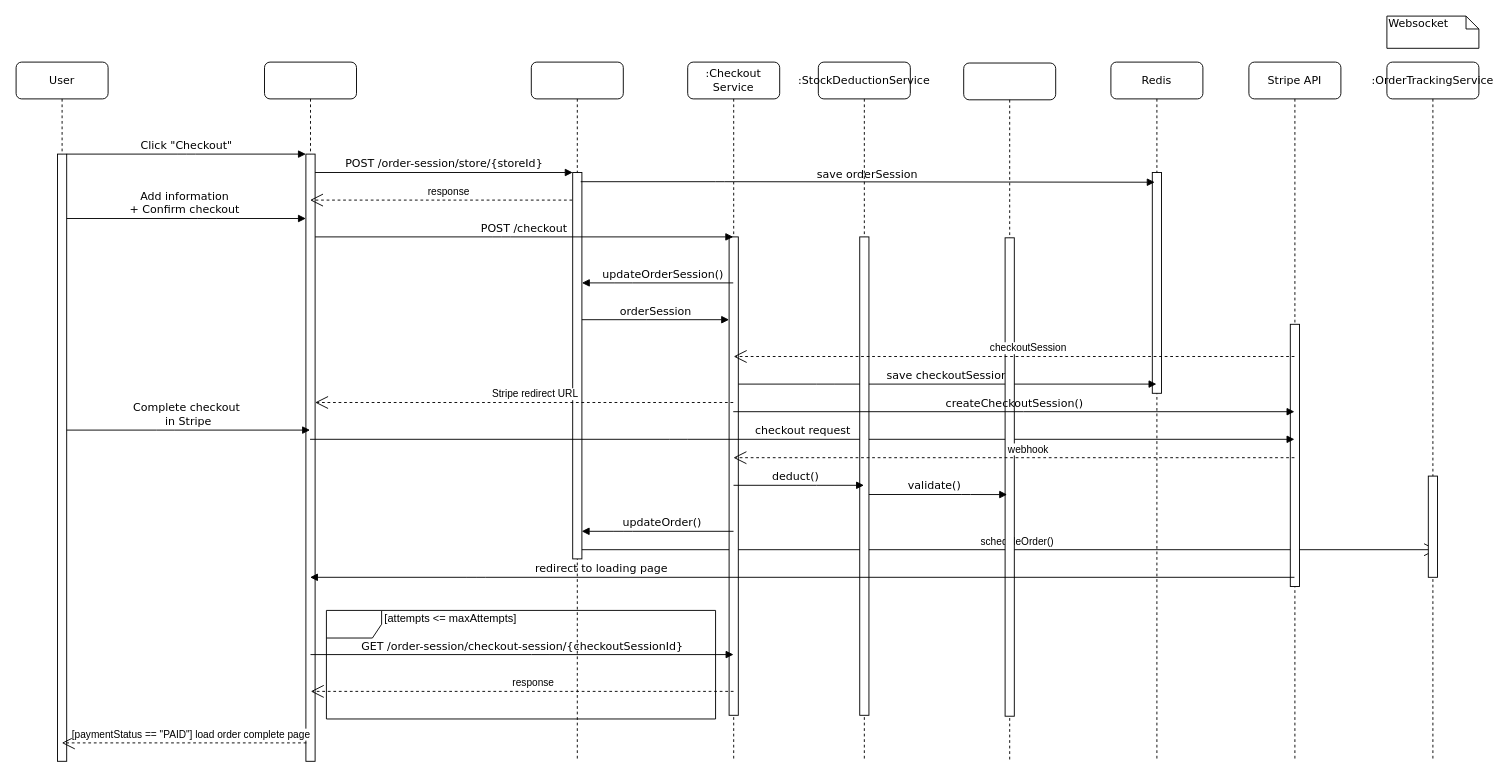
This 1510x778 diagram has some shape labels left out. Here are the shapes that lost their labels. From the top down, the box of each, then its label:
(264, 61, 356, 761): React
(530, 61, 623, 761): :OrderService
(963, 62, 1056, 762): :StockValidator
(325, 610, 716, 719): loop
